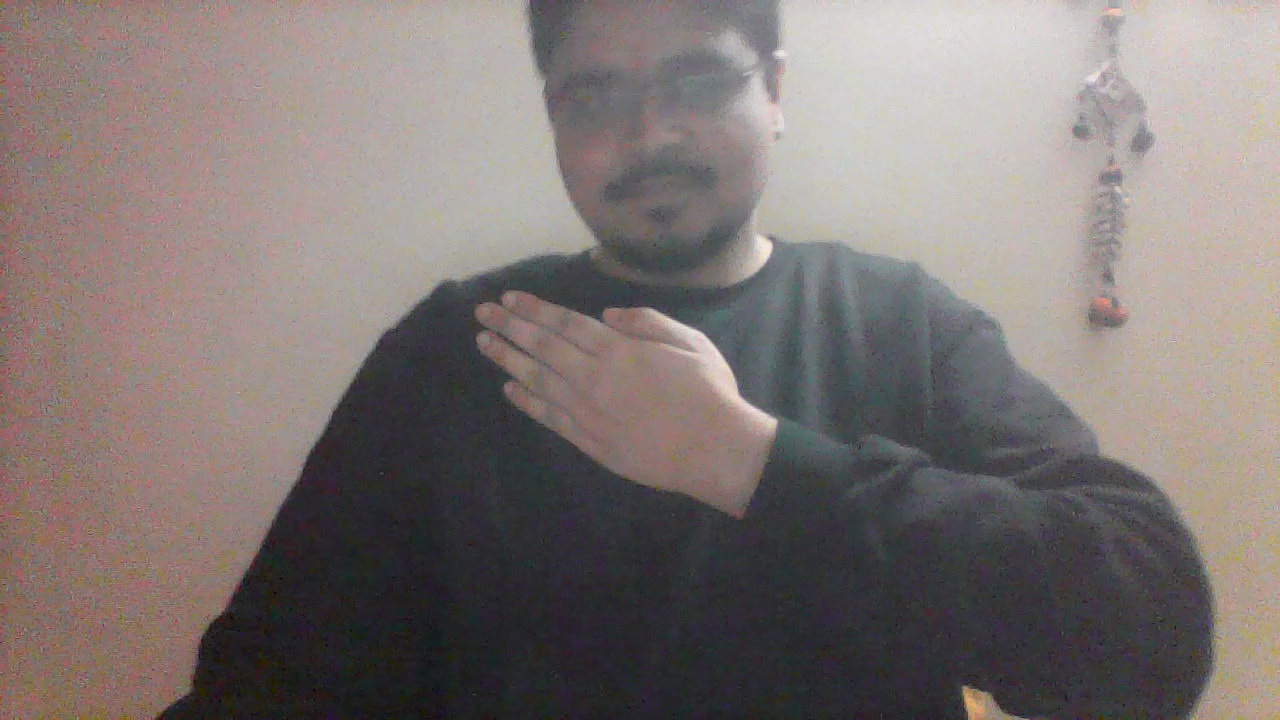Please: (471, 286, 743, 516)
